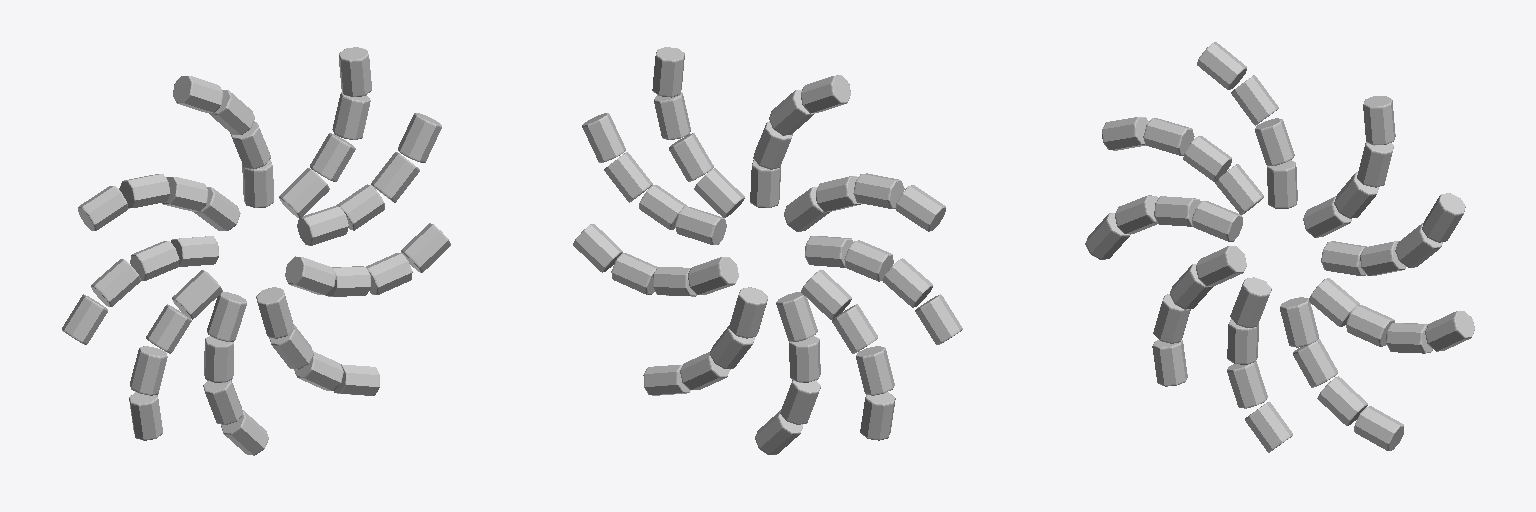
Rendered from tent.obj.
3 renders of one model, left to right at view 1: azimuth 30°, elevation 25°; view 2: azimuth 150°, elevation 25°; view 3: azimuth 330°, elevation 25°, orthographic.
Visible parts, largest first — view 1: Cube.025_Cube.000; view 2: Cube.025_Cube.000; view 3: Cube.025_Cube.000.
Part boxes in pixels (x1,y1,x2,y2): Cube.025_Cube.000: (62, 47, 450, 455); Cube.025_Cube.000: (573, 47, 962, 454); Cube.025_Cube.000: (1085, 42, 1474, 452).
Bounding box in the file's own units: 10.21 × 9.98 × 0.7414.